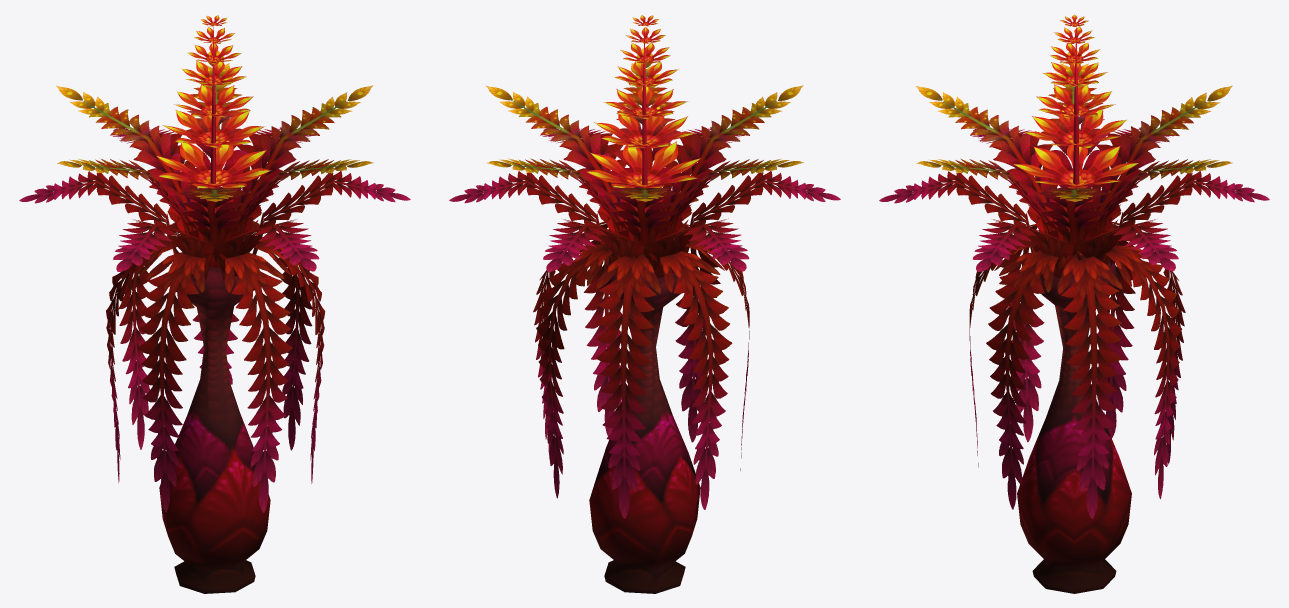
Rendered from Red_Tree_11a.FBX.
The picture shows the model from 3 angles, left to right: view 1: azimuth 30°, elevation 25°; view 2: azimuth 150°, elevation 25°; view 3: azimuth 270°, elevation 25°; orthographic projection.
Parts seen in each view (by area): view 1: Red_Tree_11a; view 2: Red_Tree_11a; view 3: Red_Tree_11a.
Boxes of the visible parts, x1,y1,x2,y2 form: Red_Tree_11a: (19, 15, 410, 593); Red_Tree_11a: (449, 15, 840, 593); Red_Tree_11a: (879, 14, 1269, 593).
Size of the model in its own units: 147 by 229 by 150.
